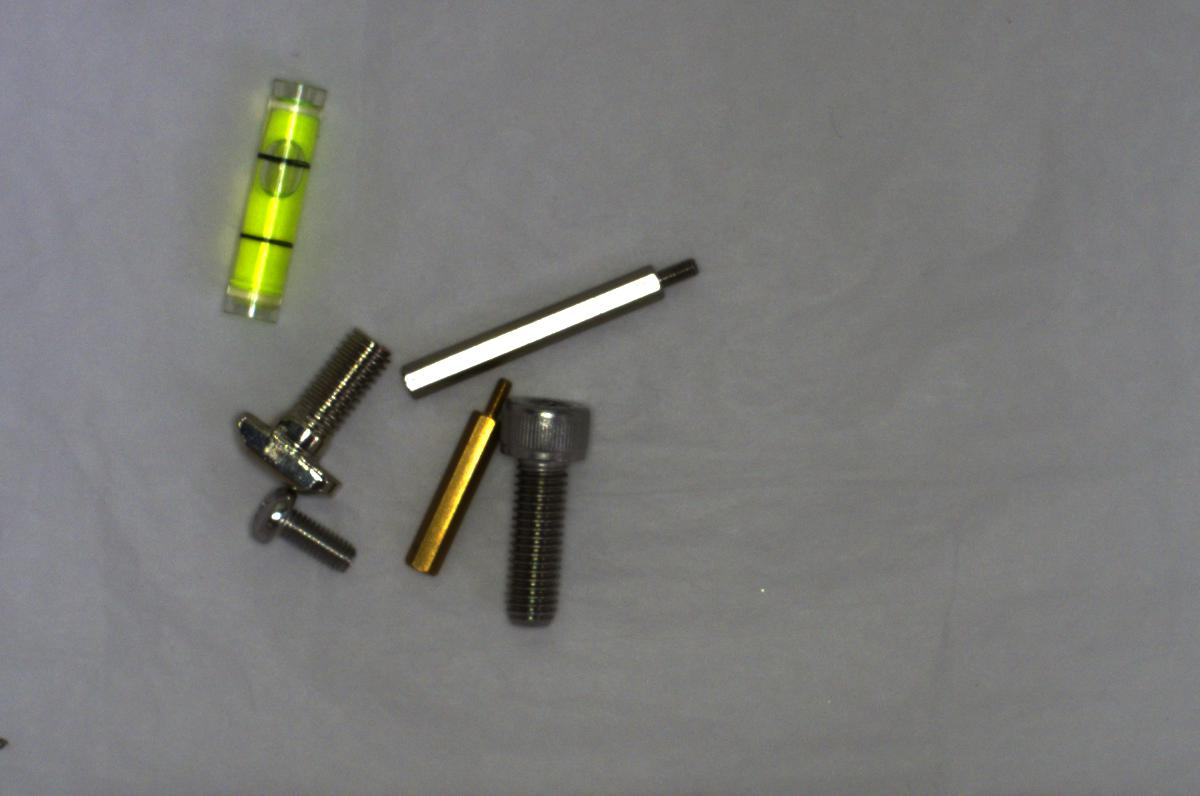Hexagon pillar: (404, 376, 511, 582)
Hexagon screw: (492, 392, 599, 632)
Hexagonal steel column: (400, 252, 701, 398)
Horizontal bubble: (224, 73, 319, 326)
Round head screw: (237, 487, 355, 574)
T-shaped screw: (224, 325, 388, 494)
